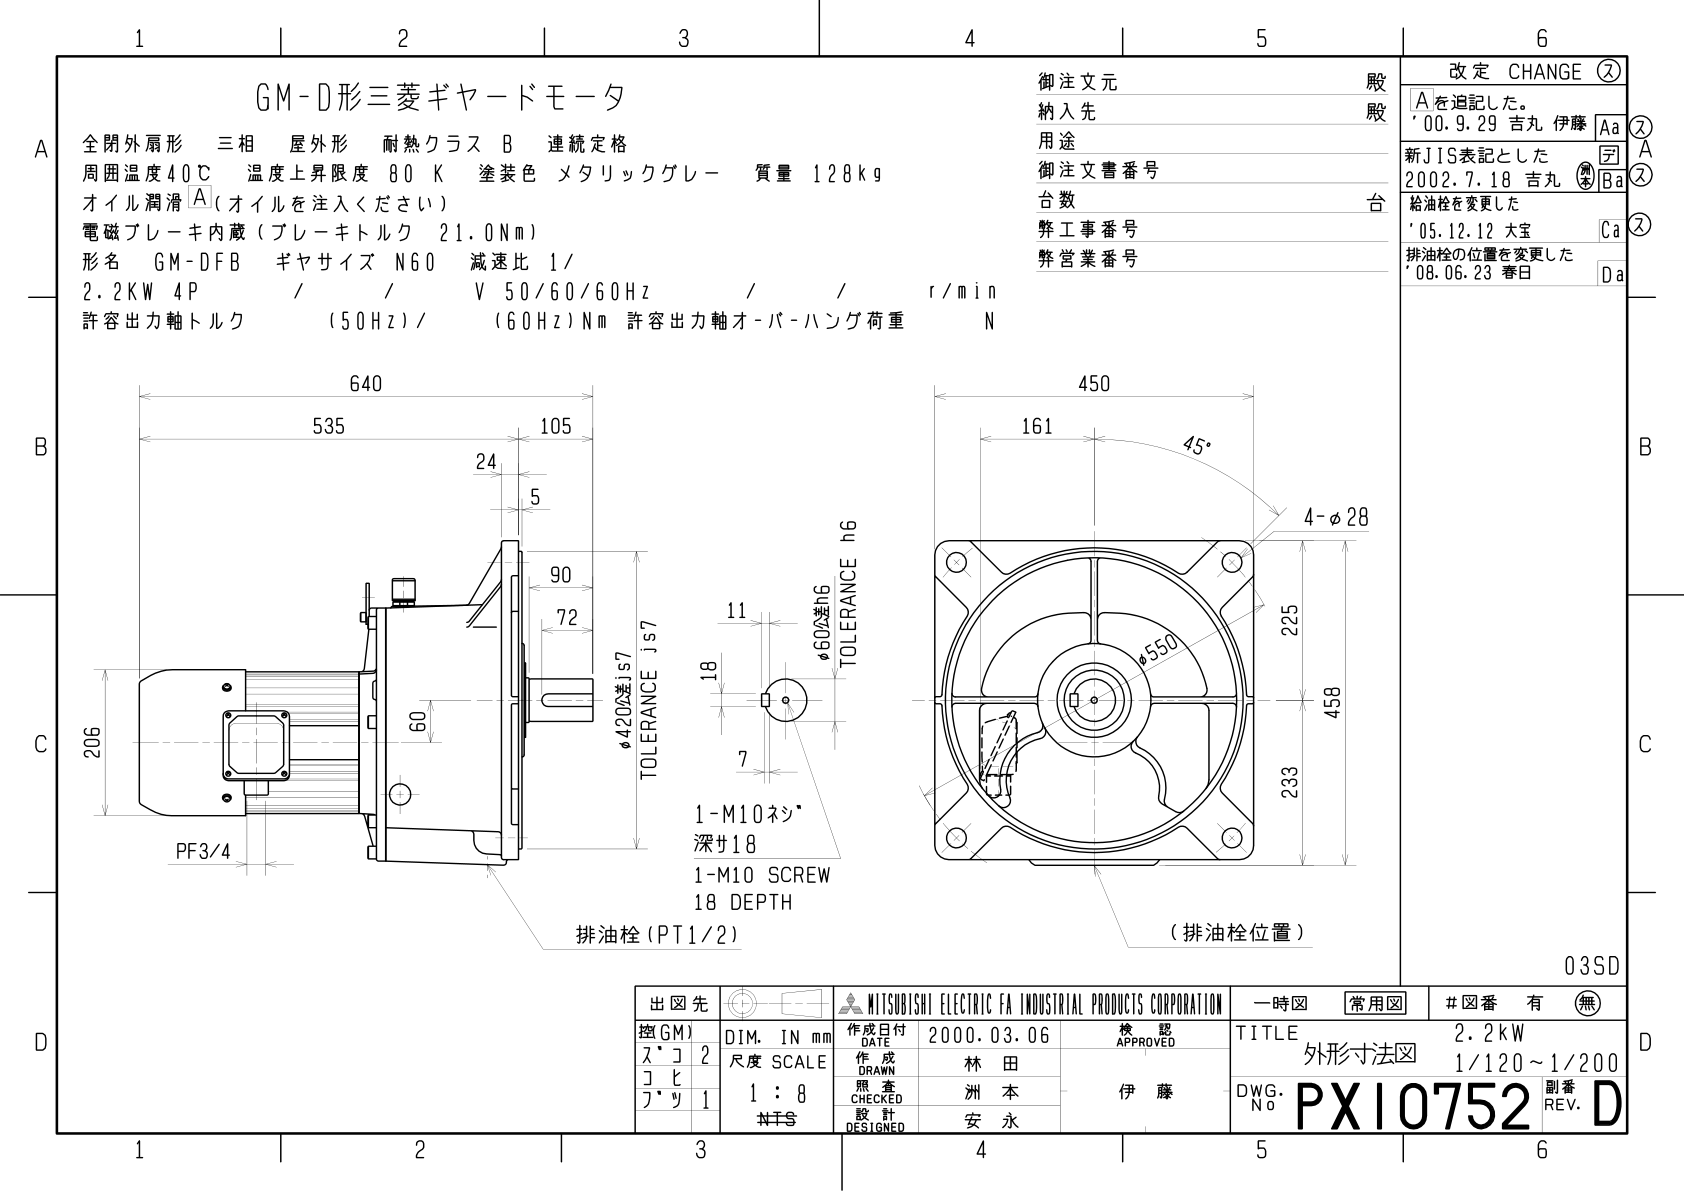GM_D_屋外＿三相_フランジ: (5, 1, 1684, 1191)
